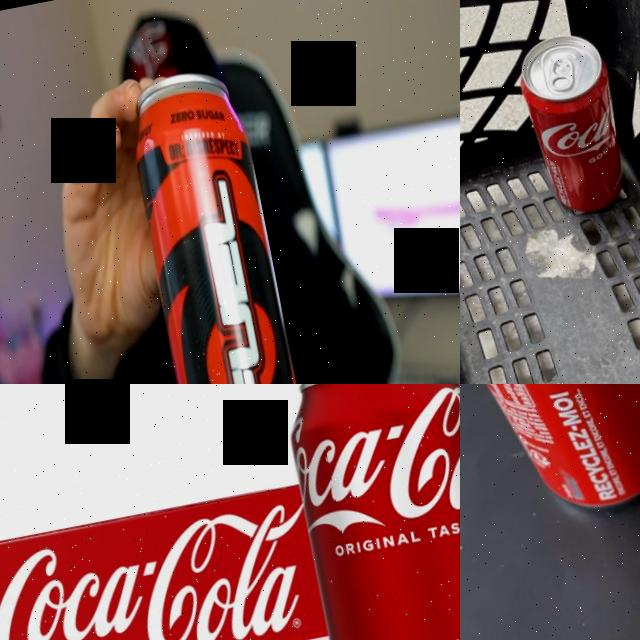can: (119, 63, 338, 384), (274, 384, 460, 640), (460, 384, 640, 553), (510, 24, 632, 221)
